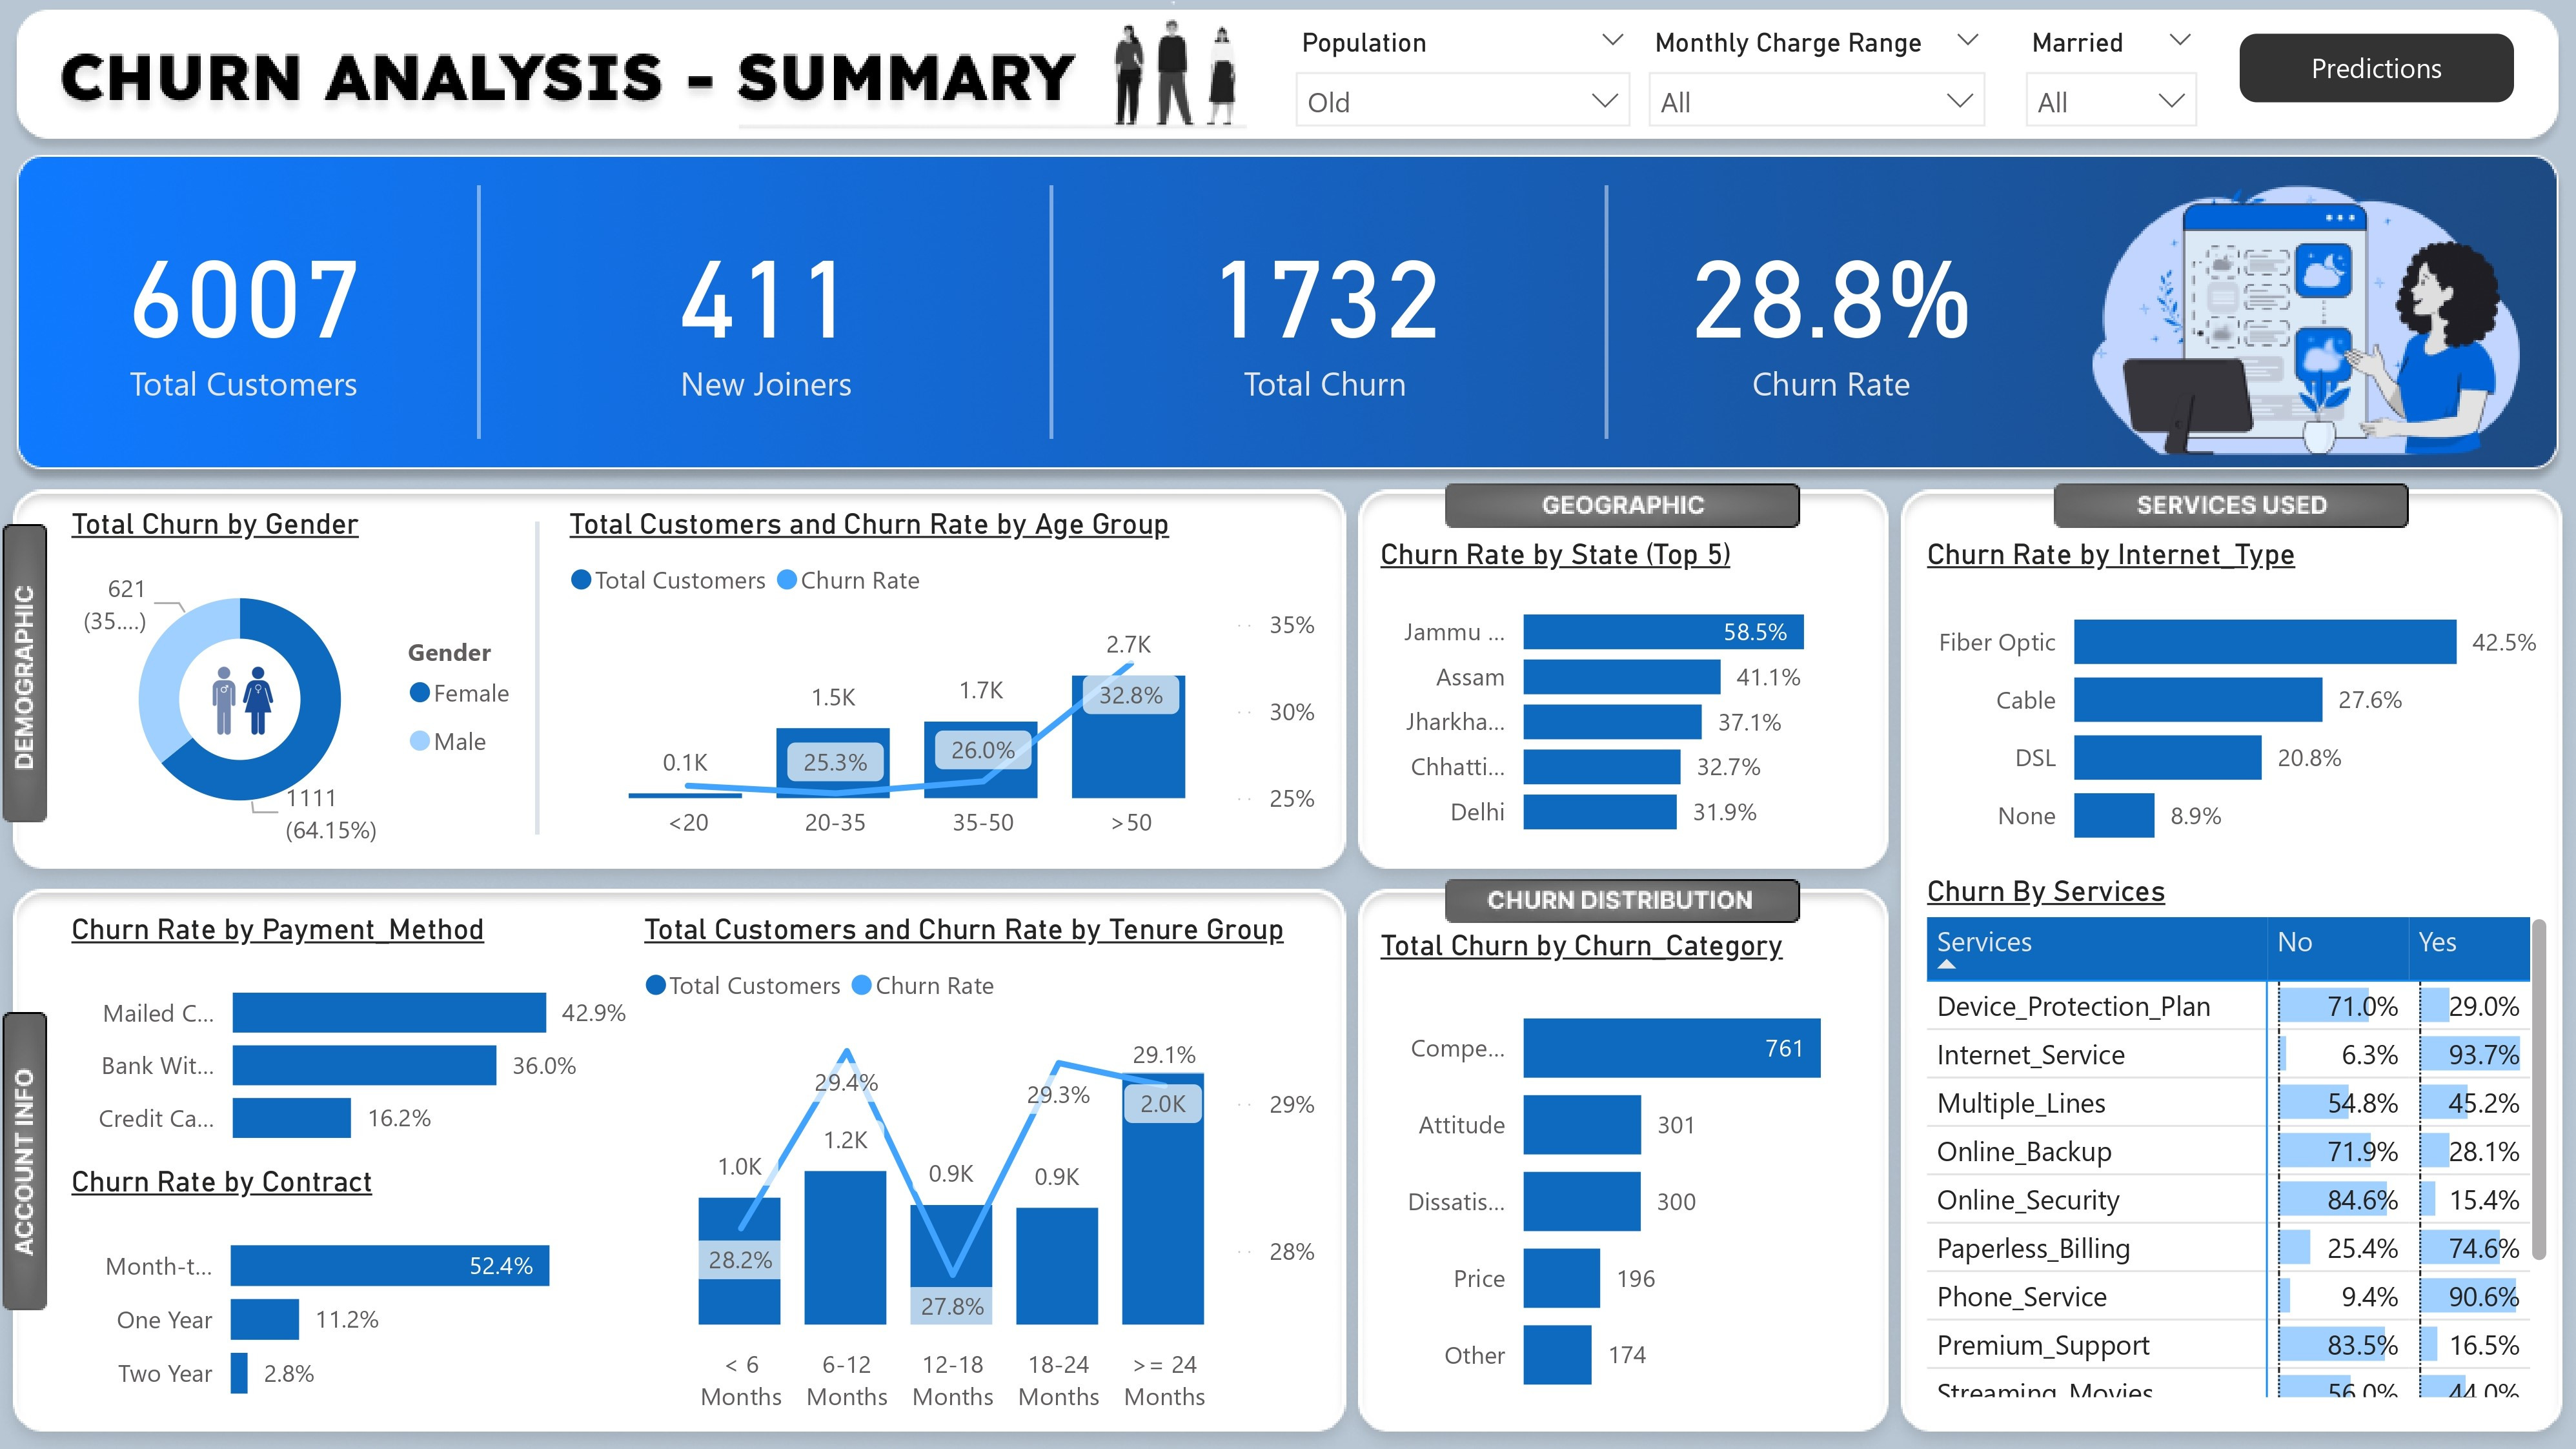

The page's visual inventory and layout, read from the dashboard file:
{"tool":"powerbi","page":{"name":"Summary","canvas":[1280,720],"ordinal":0},"visuals":[{"type":"image","box":[52.6,307.8,138.9,79.8],"z":0},{"type":"card","fields":{"Values":["tbl_Measures.Total Customers"]},"box":[25.8,89.8,192.9,126.2],"z":1000},{"type":"card","fields":{"Values":["tbl_Measures.New Joiners"]},"box":[285.3,89.8,192.9,126.2],"z":2000},{"type":"card","fields":{"Values":["tbl_Measures.Total Churn"]},"box":[561.8,89.8,192.9,126.2],"z":3000},{"type":"card","fields":{"Values":["tbl_Measures.Churn Rate"]},"box":[813.3,89.8,192.9,126.2],"z":4000},{"type":"donutChart","fields":{"Category":["prod_Churn.Gender"],"Y":["tbl_Measures.Total Churn"]},"box":[31.9,253.4,238.4,173.6],"z":5000},{"type":"lineStackedColumnComboChart","fields":{"Category":["mapping_AgeGrp.Age Group"],"Y":["tbl_Measures.Total Customers"],"Y2":["tbl_Measures.Churn Rate"]},"box":[278.7,253.4,380.1,173.6],"z":6000},{"type":"clusteredBarChart","fields":{"Category":["prod_Churn.Payment_Method"],"Y":["tbl_Measures.Churn Rate"]},"box":[32,454.2,288.9,128],"z":7000},{"type":"clusteredBarChart","fields":{"Y":["tbl_Measures.Churn Rate"],"Category":["prod_Churn.Contract"]},"box":[32,578.7,284.4,130.7],"z":8000},{"type":"lineStackedColumnComboChart","fields":{"Category":["mapping_TenureGrp.Tenure Group"],"Y":["tbl_Measures.Total Customers"],"Y2":["tbl_Measures.Churn Rate"]},"box":[316.2,454.2,342.5,255.2],"z":9000},{"type":"clusteredBarChart","title":"Churn Rate by State (Top 5)","fields":{"Category":["prod_Churn.State"],"Y":["tbl_Measures.Churn Rate"]},"box":[681.3,268.4,252.4,158.6],"z":10000},{"type":"clusteredBarChart","fields":{"Category":["prod_Churn.Churn_Category"],"Y":["tbl_Measures.Total Churn"]},"box":[681.3,461.7,252.4,247.7],"z":11000},{"type":"clusteredBarChart","fields":{"Y":["tbl_Measures.Churn Rate"],"Category":["prod_Churn.Internet_Type"]},"box":[951.6,268.4,318.1,166.1],"z":12000},{"type":"pivotTable","title":"Churn By Services","fields":{"Rows":["prod_Services.Services"],"Columns":["prod_Services.Status"],"Values":["Sum(prod_Services.Churn Status)"]},"box":[951.6,435.4,318.1,263.7],"z":13000},{"type":"slicer","fields":{"Values":["prod_Churn.Monthly Charge Status"]},"box":[705.8,8.3,204.2,54.2],"z":14000},{"type":"slicer","fields":{"Values":["prod_Churn.Married"]},"box":[909.3,8.4,169.9,54.4],"z":15000},{"type":"shape","box":[1112,17.8,136,33.8],"z":16000}]}

Visuals, with their boxes in screenshot pixels (x1, y1, x2, y2), scaled from the page's 1280x720 canvas onto the 2576x1449 screenshot:
image: region(106, 620, 385, 780)
card - tbl_Measures.Total Customers: region(52, 181, 440, 435)
card - tbl_Measures.New Joiners: region(574, 181, 962, 435)
card - tbl_Measures.Total Churn: region(1131, 181, 1519, 435)
card - tbl_Measures.Churn Rate: region(1637, 181, 2025, 435)
donutChart - prod_Churn.Gender x tbl_Measures.Total Churn: region(64, 510, 544, 859)
lineStackedColumnComboChart - mapping_AgeGrp.Age Group x tbl_Measures.Total Customers: region(561, 510, 1326, 859)
clusteredBarChart - prod_Churn.Payment_Method x tbl_Measures.Churn Rate: region(65, 914, 646, 1171)
clusteredBarChart - tbl_Measures.Churn Rate x prod_Churn.Contract: region(65, 1164, 637, 1428)
lineStackedColumnComboChart - mapping_TenureGrp.Tenure Group x tbl_Measures.Total Customers: region(636, 914, 1326, 1428)
"Churn Rate by State (Top 5)" clusteredBarChart: region(1371, 540, 1879, 859)
clusteredBarChart - prod_Churn.Churn_Category x tbl_Measures.Total Churn: region(1371, 929, 1879, 1428)
clusteredBarChart - tbl_Measures.Churn Rate x prod_Churn.Internet_Type: region(1915, 540, 2555, 875)
"Churn By Services" pivotTable: region(1915, 876, 2555, 1407)
slicer - prod_Churn.Monthly Charge Status: region(1421, 17, 1831, 126)
slicer - prod_Churn.Married: region(1830, 17, 2172, 127)
shape: region(2238, 36, 2511, 104)
